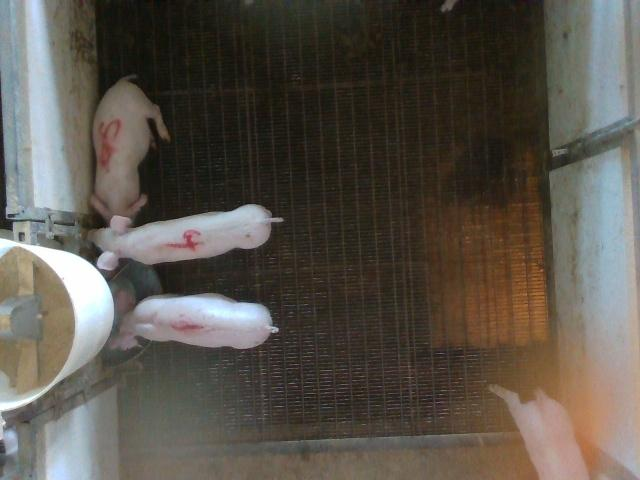pig-1: (108, 290, 279, 350)
pig-4: (89, 204, 281, 269)
pig-5: (91, 75, 170, 221)
